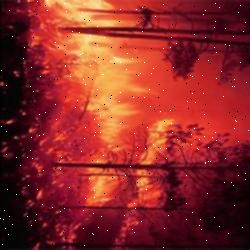fire: (2, 2, 180, 250)
